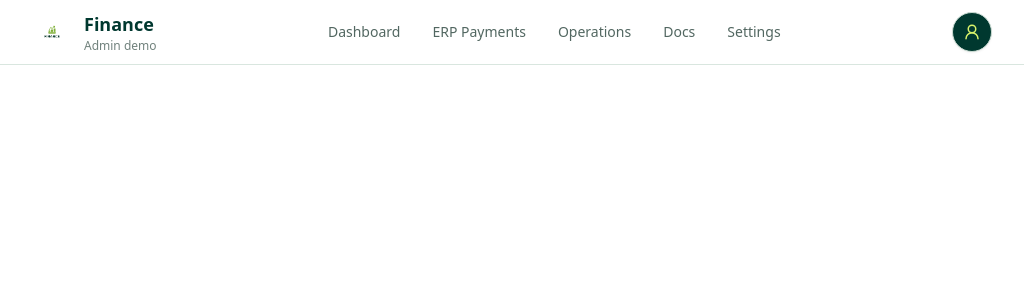
Test: Header › shows profile actions instead of sign-in links for a logged-in user
The width and height of the screenshot is (1024, 286).
Click the button named "open user profile menu": coordinates (972, 32) [952,12,992,52]
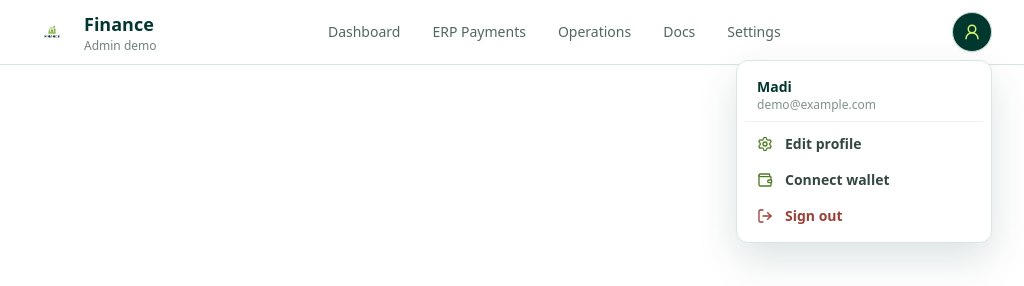
expect the link "sign in" is not shown: met
expect the link "Edit profile" is shown: met, box [757,134,862,153]
expect the button "Connect wallet" is shown: met, box [745,162,983,198]
Click the button "Sign out": coordinates (864, 216) [745,198,983,234]
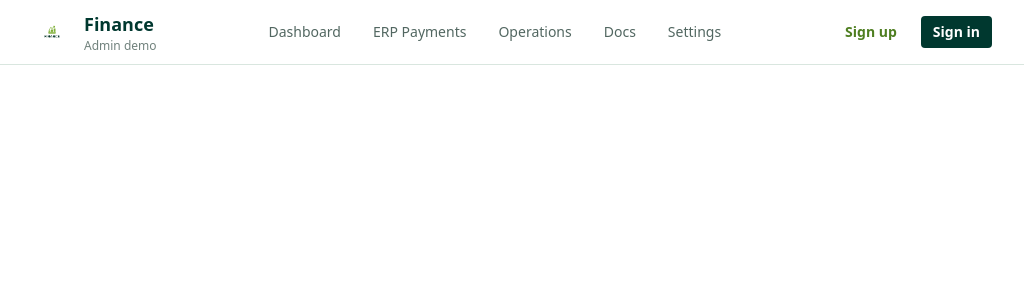
expect the link "Sign in" is shown: met, box [921,16,992,48]
